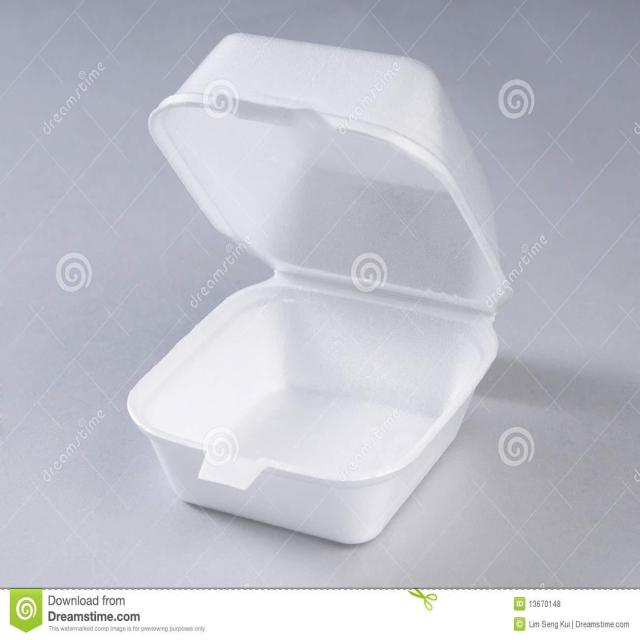styrofoam: (125, 30, 514, 546)
